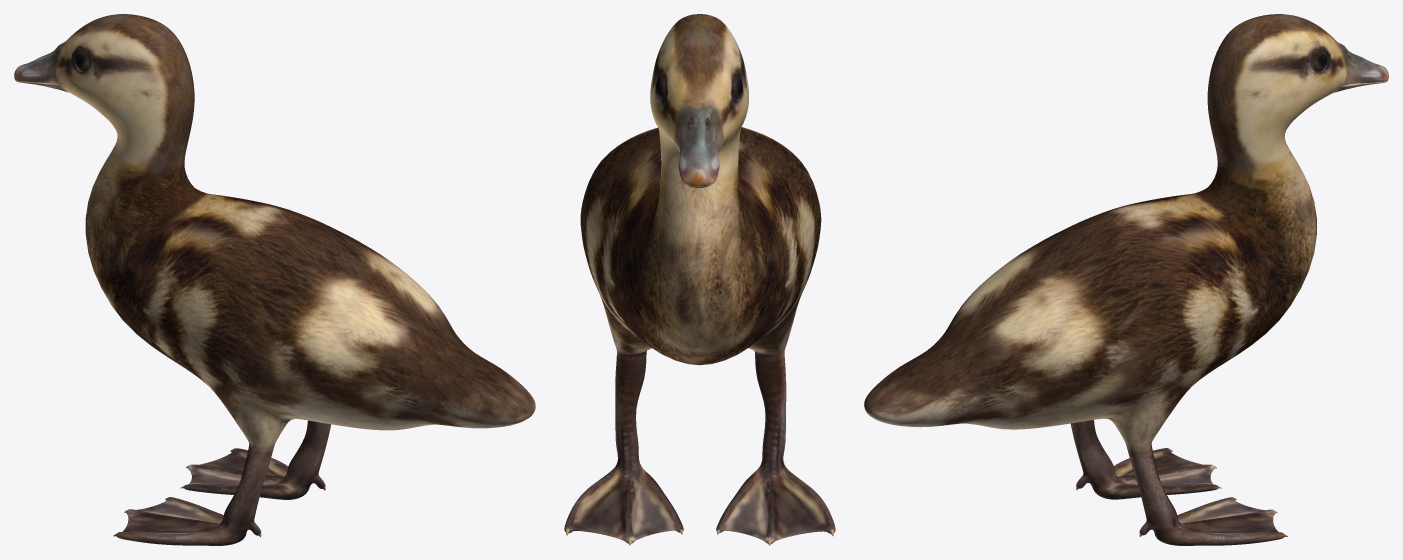
The model's file is Ratusca2.obj.
3 views of the same model, side by side, from view 1: azimuth 30°, elevation 25°; view 2: azimuth 150°, elevation 25°; view 3: azimuth 270°, elevation 25° (orthographic). The views are drawn at different scales.
Visible parts, largest first — view 1: 12250_Bird_v1_L3.001; view 2: 12250_Bird_v1_L3.001; view 3: 12250_Bird_v1_L3.001.
Boxes of the visible parts, x1,y1,x2,y2 form: 12250_Bird_v1_L3.001: [14, 14, 535, 545]; 12250_Bird_v1_L3.001: [564, 14, 835, 545]; 12250_Bird_v1_L3.001: [864, 14, 1388, 545].
Bounding box in the file's own units: 0.2804 × 0.4476 × 0.4539.
Materials: 1 (1 with a texture image).
